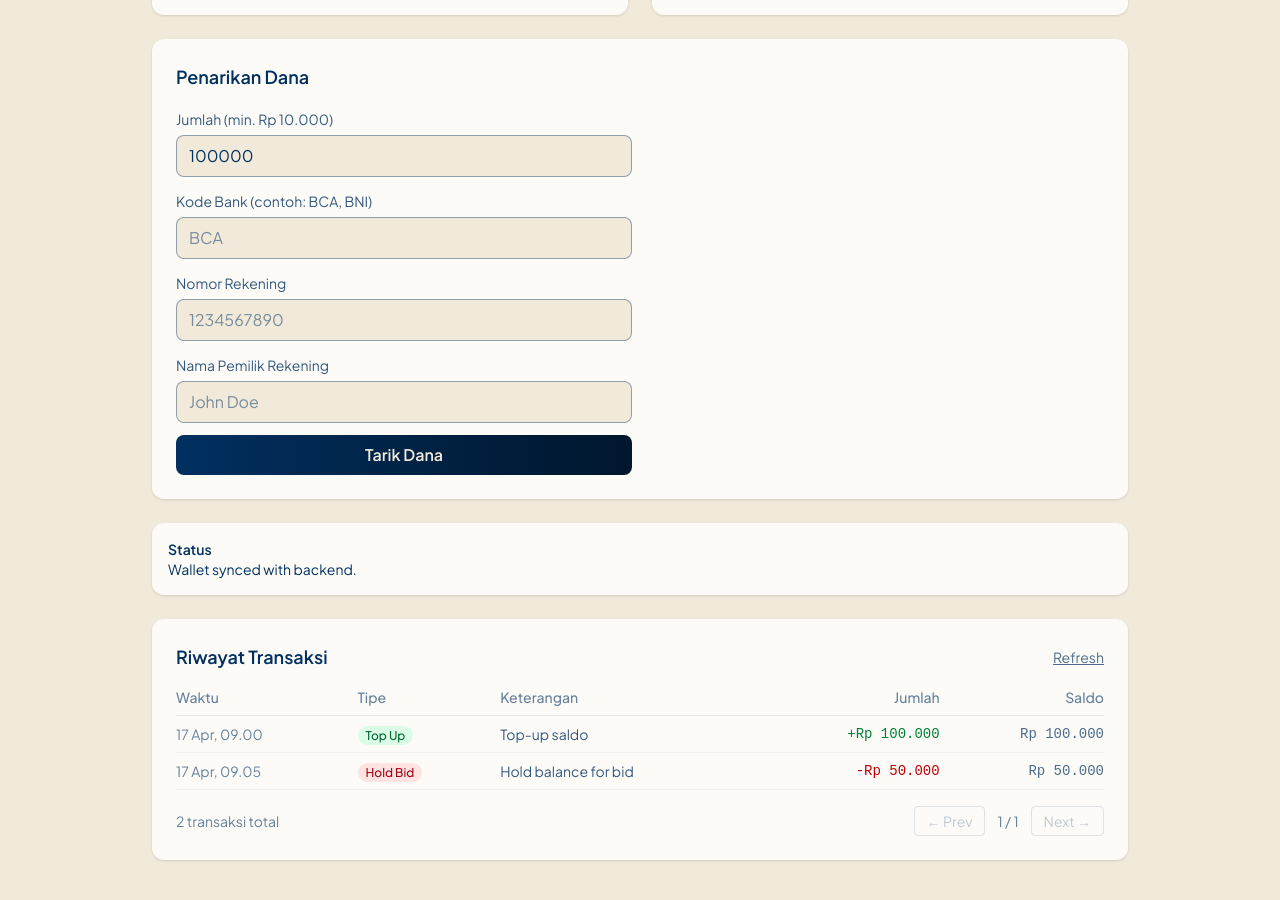
Test: WalletPage – withdraw handler › shows error when bank code is empty
(page scrolled)
Expected: the text "Wallet synced with backend." is shown, [168,560,357,578]
Click the button "Tarik Dana".
click(404, 455)  # box [176,435,632,475]
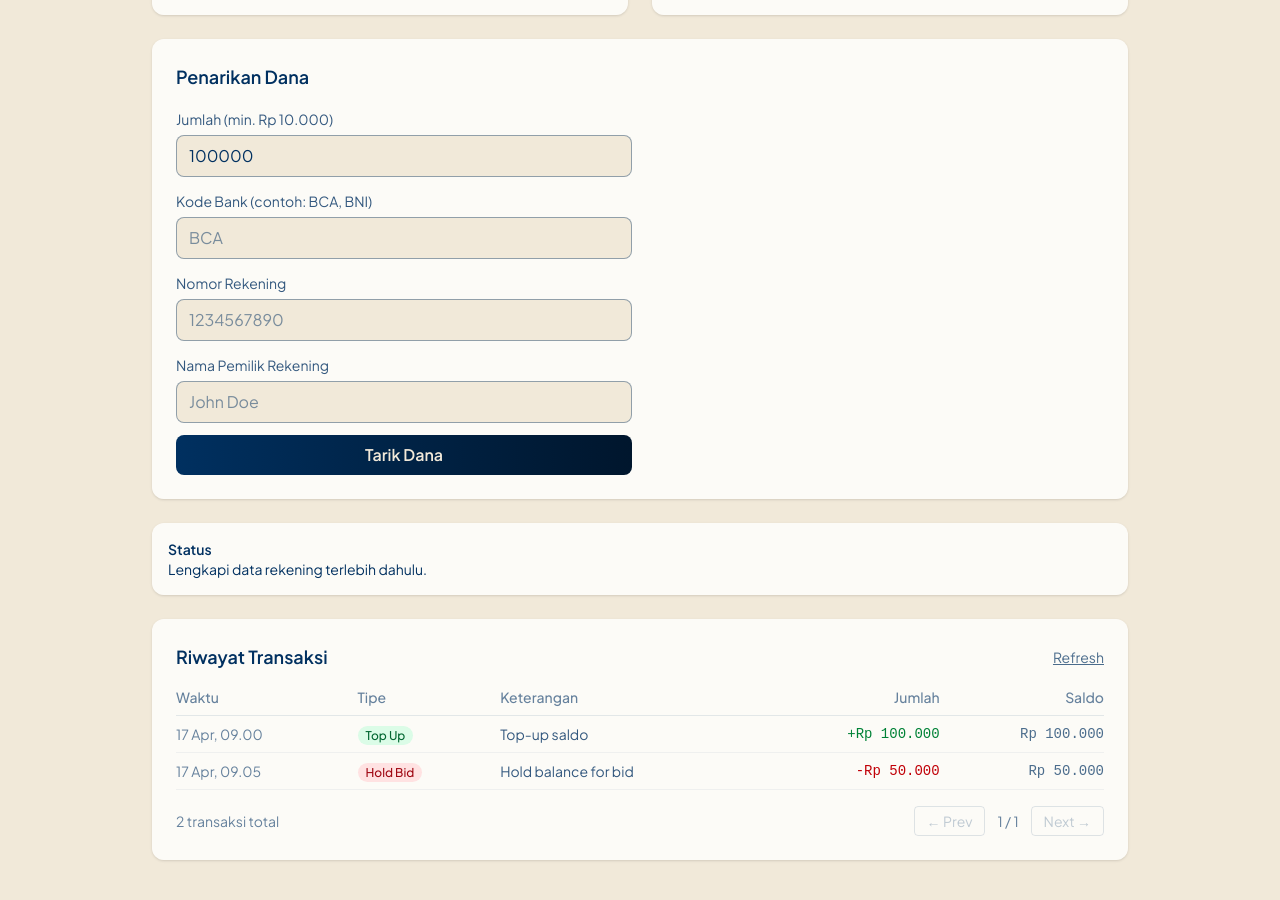
Expected: the text "Lengkapi data rekening terlebih dahulu." is shown, [168,560,427,578]
